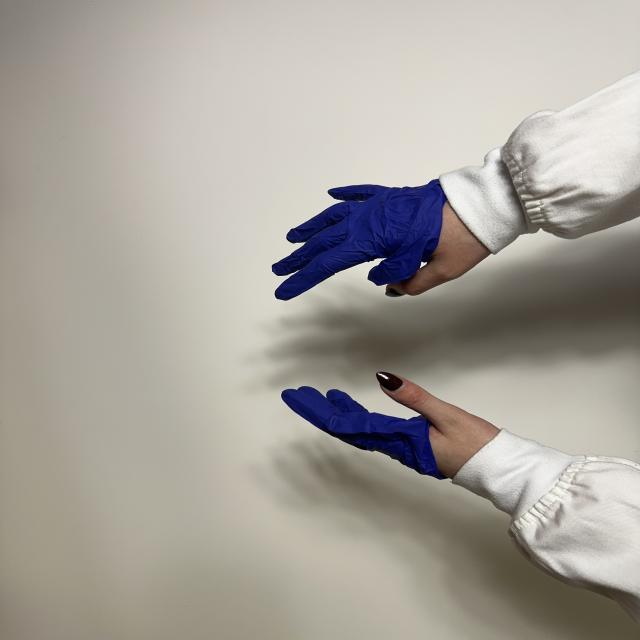glove_partial: (272, 180, 490, 300), (282, 372, 499, 479)
